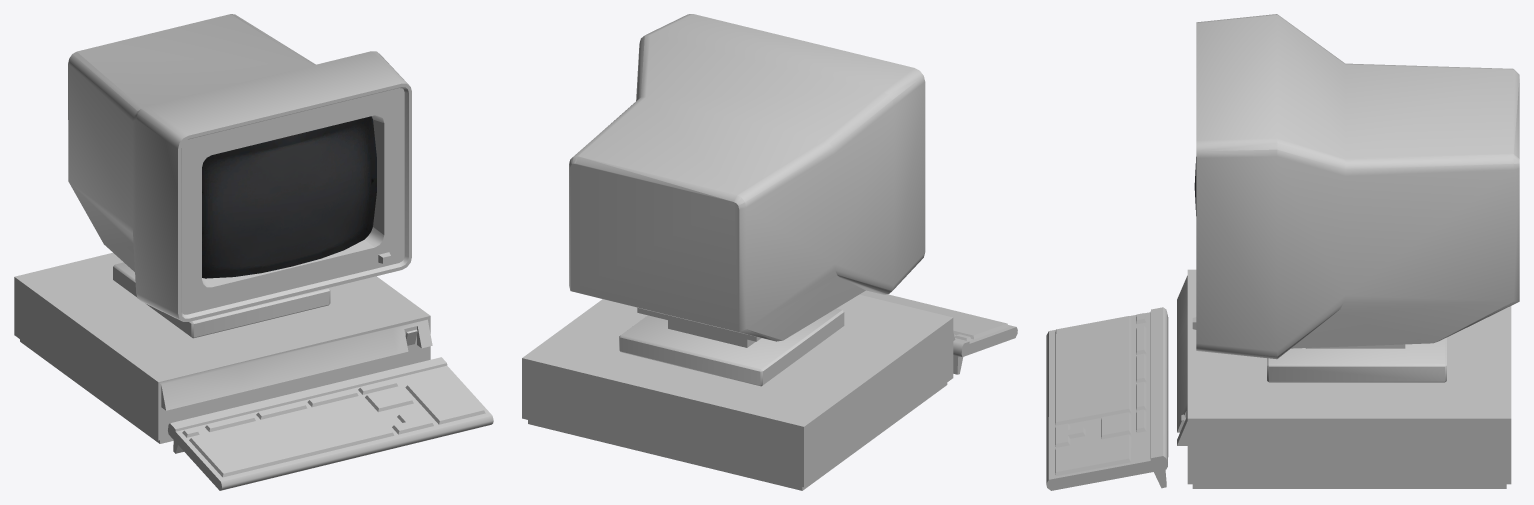
The model's file is computer.fbx.
3 views of the same model, side by side, from view 1: azimuth 30°, elevation 25°; view 2: azimuth 150°, elevation 25°; view 3: azimuth 270°, elevation 25° (orthographic). The views are drawn at different scales.
Visible parts, largest first — view 1: computer_1980; view 2: computer_1980; view 3: computer_1980.
Boxes of the visible parts, x1=… form: computer_1980: x1=14, y1=14, x2=493, y2=490; computer_1980: x1=522, y1=14, x2=1017, y2=490; computer_1980: x1=1046, y1=14, x2=1519, y2=490.
Size of the model in its own units: 0.5067 by 0.5418 by 0.6798.
